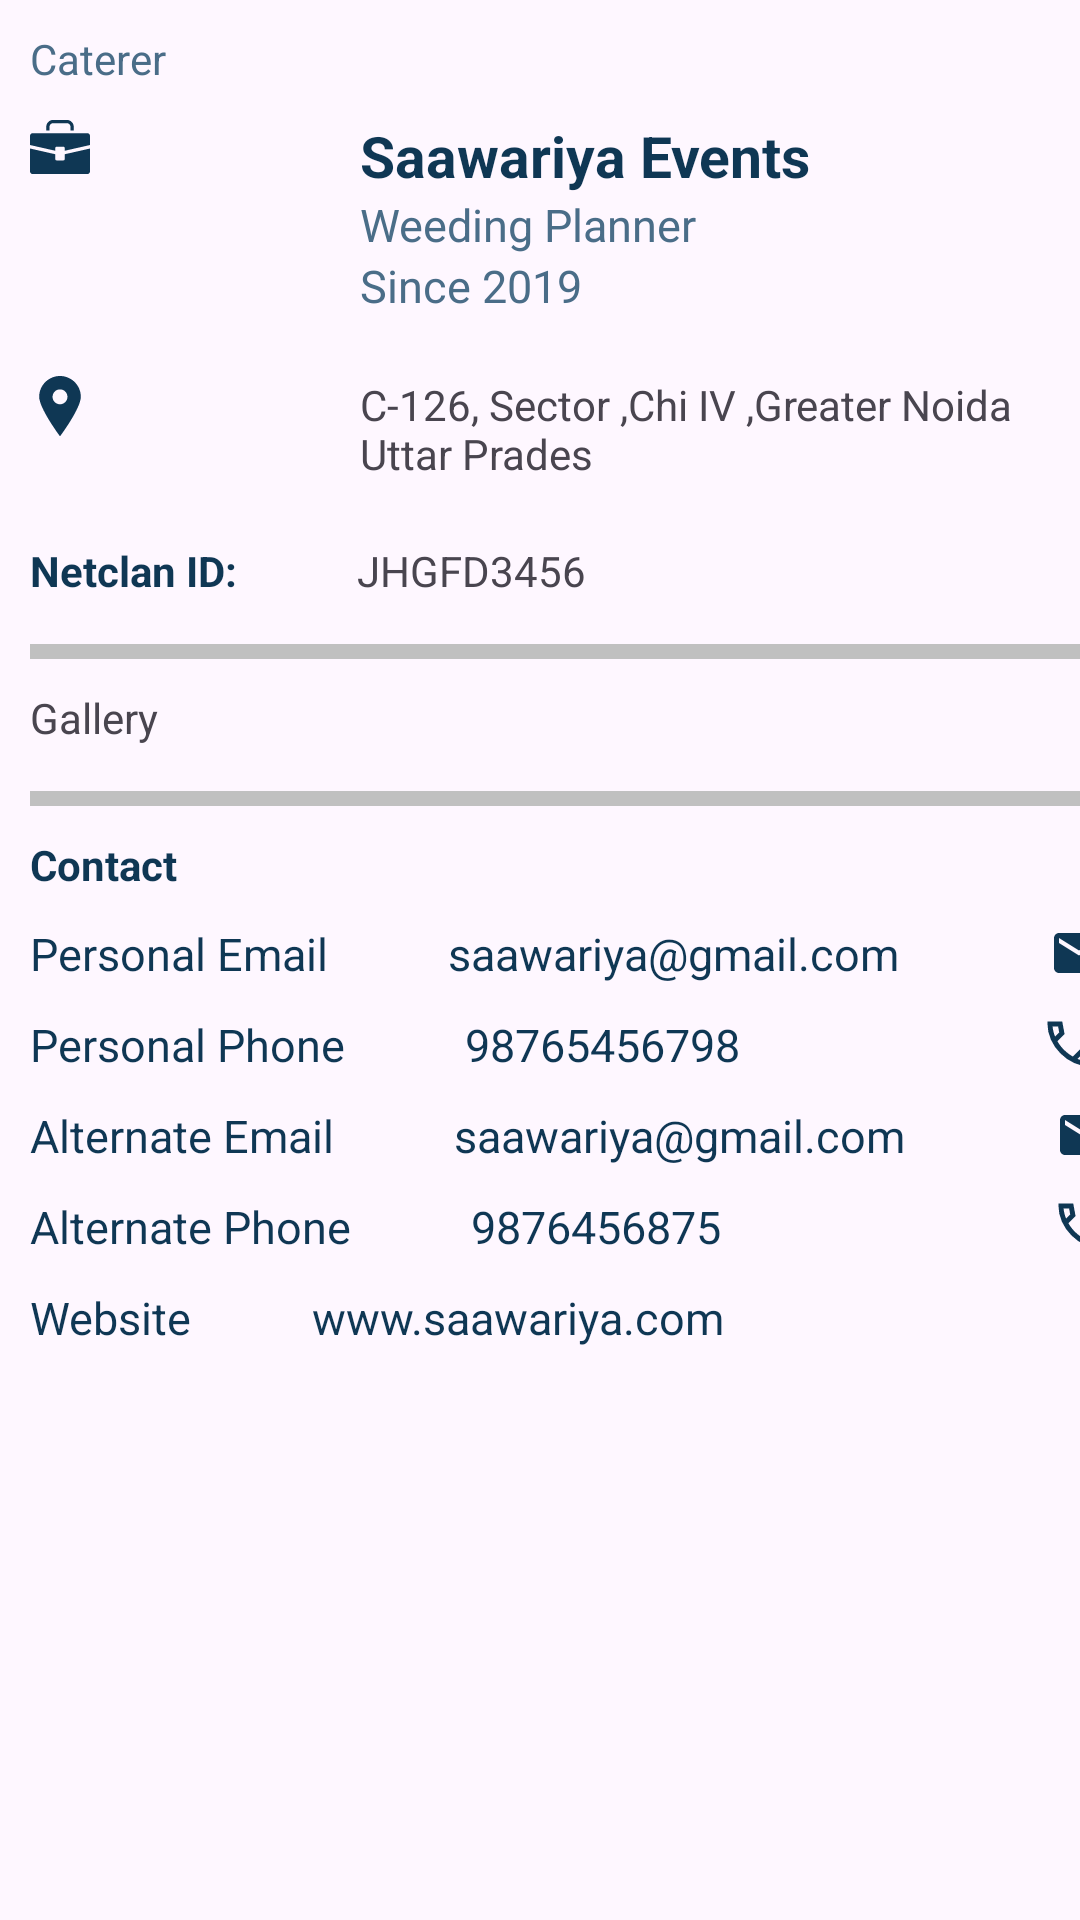

Where to tap for icons on this 1080w x 1920h app screen, as (x,y):
business bag: (60,147)
location sign: (60,406)
